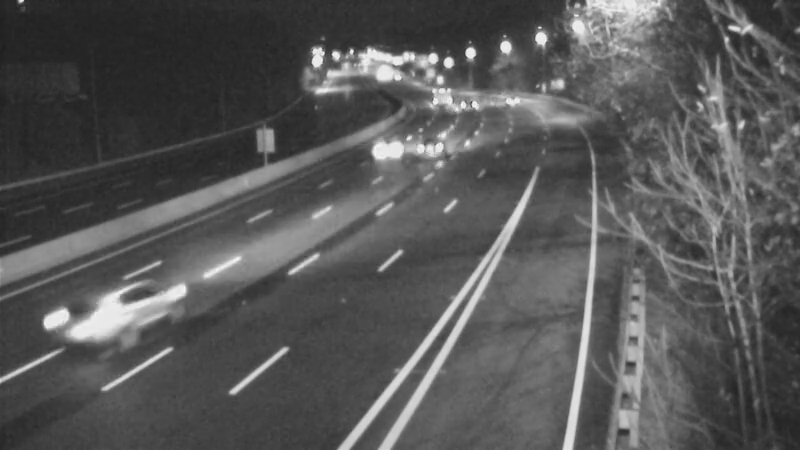vehicle: (53, 264, 163, 374), (484, 71, 534, 121), (410, 70, 460, 120), (437, 78, 487, 128), (400, 125, 450, 175), (360, 118, 410, 168)
